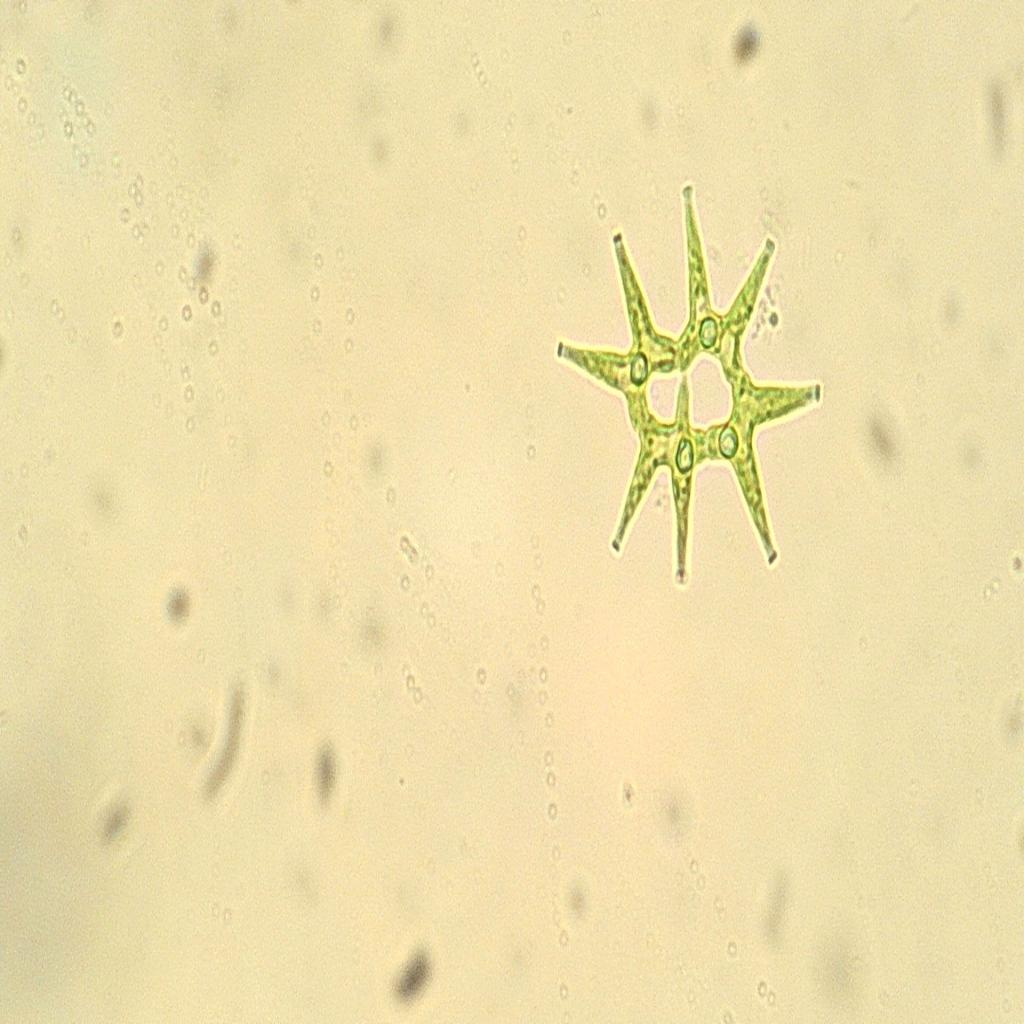Pediastrum_75FO: (530, 177, 855, 621)
